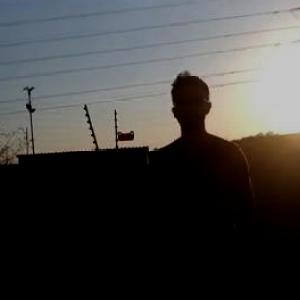follow: (142, 65, 263, 299)
